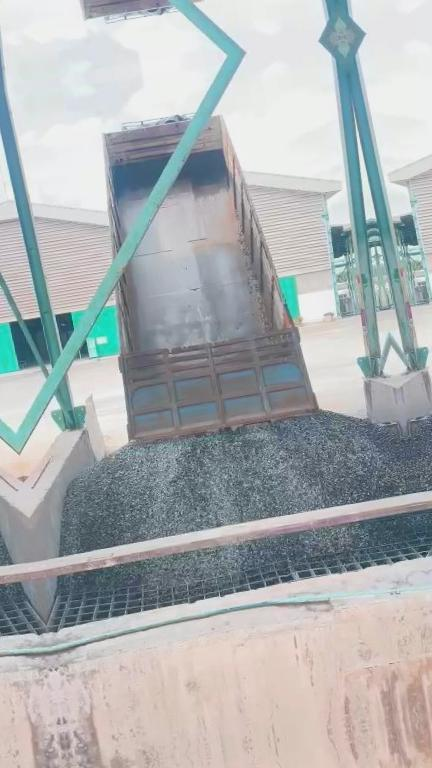gravel: (62, 411, 414, 554), (59, 515, 421, 591)
